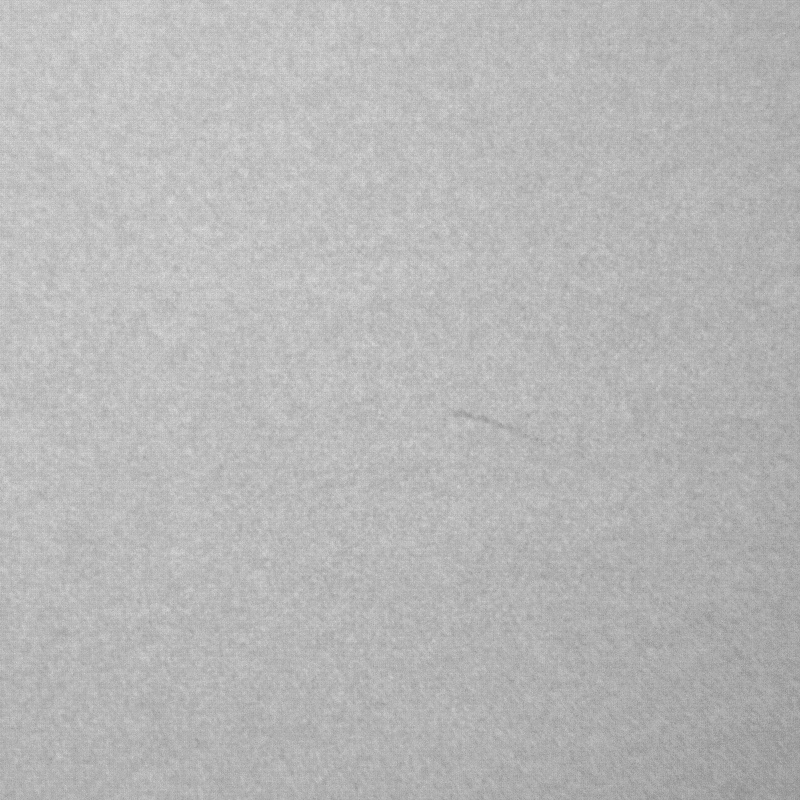defect: (452, 413, 549, 445)
